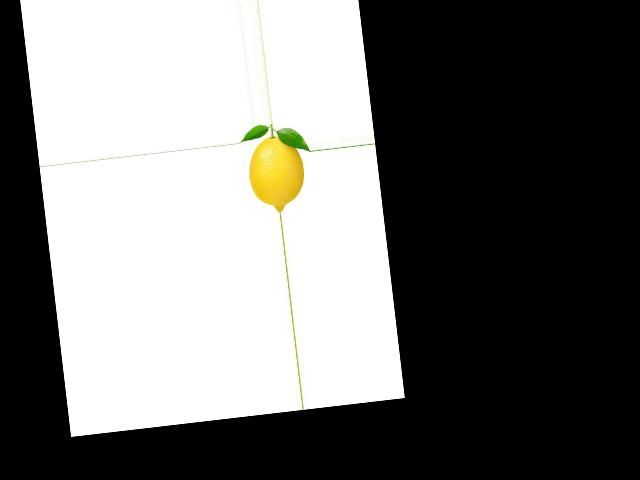lemon: (242, 126, 311, 213)
